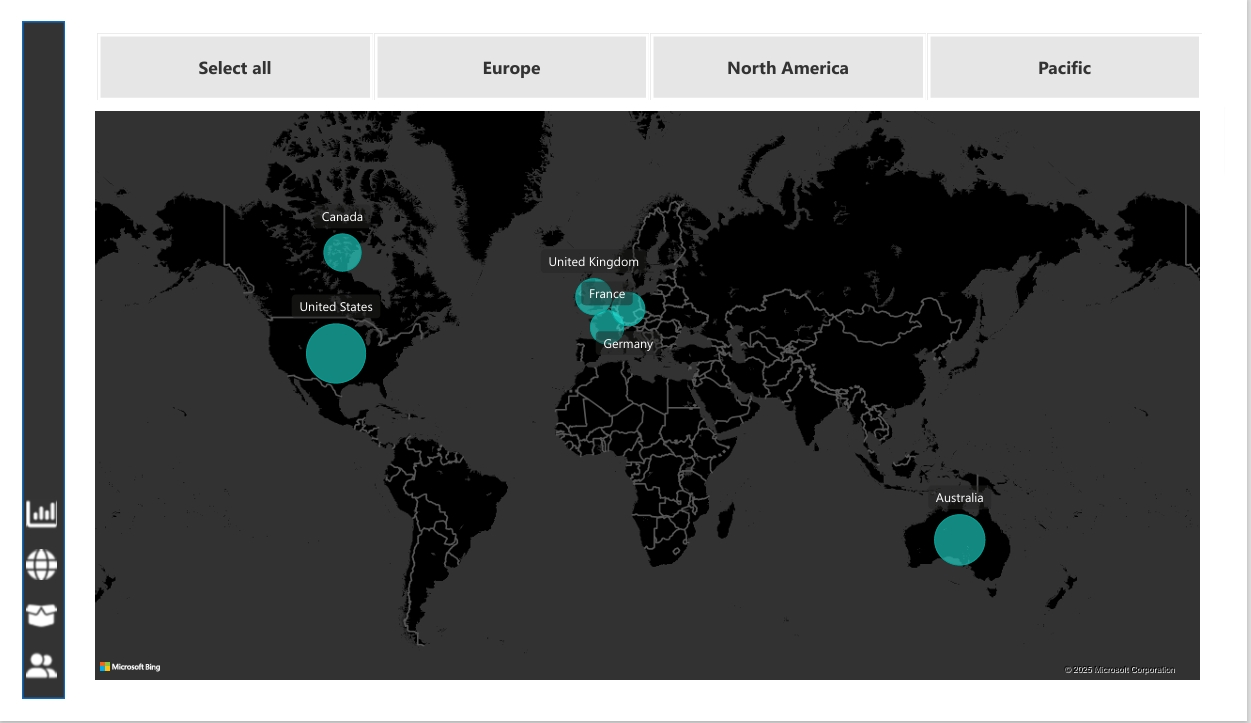

This screenshot's page, from the dashboard's own definition file:
{"tool":"powerbi","page":{"name":"Map","canvas":[1280,720],"ordinal":1},"visuals":[{"type":"shape","box":[0,0,45,720],"z":0},{"type":"actionButton","box":[0,504.3,44.3,40],"z":1000,"group":"g1"},{"type":"map","fields":{"Category":["Territory Lookup.Country"],"Size":["Measure Table.Total Orders"]},"box":[72.9,91.4,1185.7,614.3],"z":1000},{"type":"slicer","fields":{"Values":["Territory Lookup.Continent"]},"box":[54.3,5.7,1225.7,85.7],"z":2000},{"type":"actionButton","box":[0,558.6,44.3,40],"z":2000,"group":"g1"},{"type":"actionButton","box":[0,611.9,44.3,40],"z":3000,"group":"g1"},{"type":"group","id":"g1","title":"Navigation Buttons","box":[0,504.3,44.3,201.4],"z":3000},{"type":"actionButton","box":[0,665.7,44.3,40],"z":4000,"group":"g1"}]}

Visuals, with their boxes in screenshot pixels (x1, y1, x2, y2):
shape: (20,23,62,692)
actionButton: (20,492,61,529)
map - Territory Lookup.Country x Measure Table.Total Orders: (88,108,1190,679)
slicer - Territory Lookup.Continent: (70,28,1210,108)
actionButton: (20,542,61,579)
actionButton: (20,592,61,629)
"Navigation Buttons" group: (20,492,61,679)
actionButton: (20,642,61,679)
